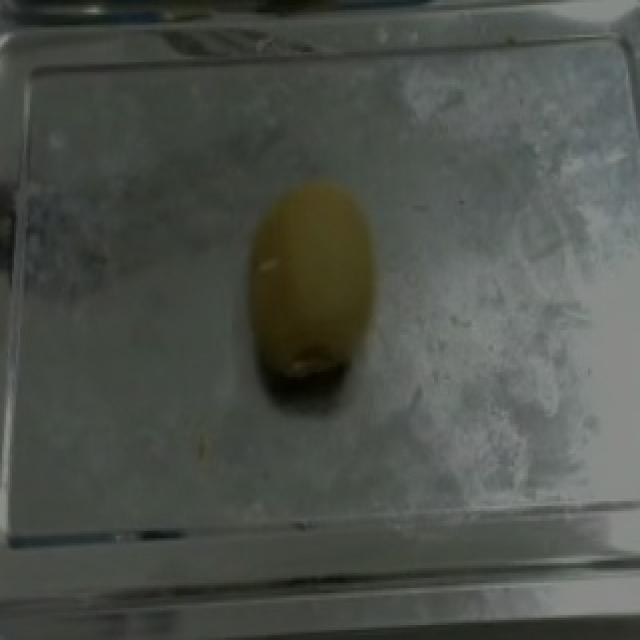Fruit: (234, 169, 392, 394)
